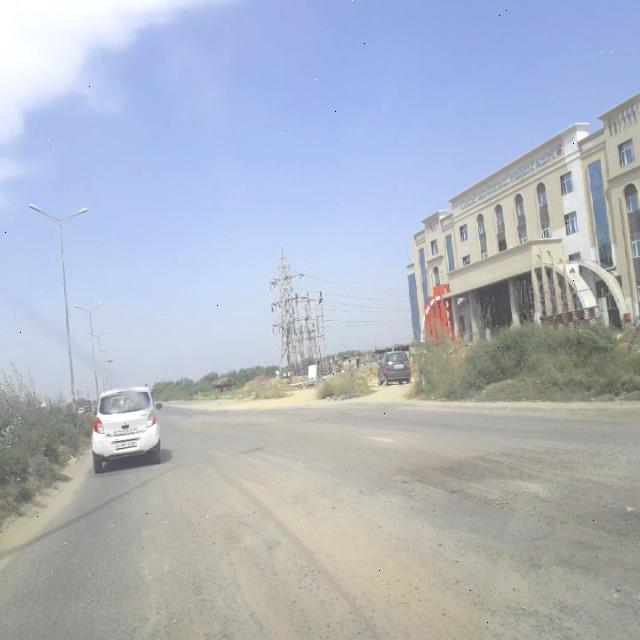D40: (122, 500, 463, 634), (398, 436, 606, 530)
